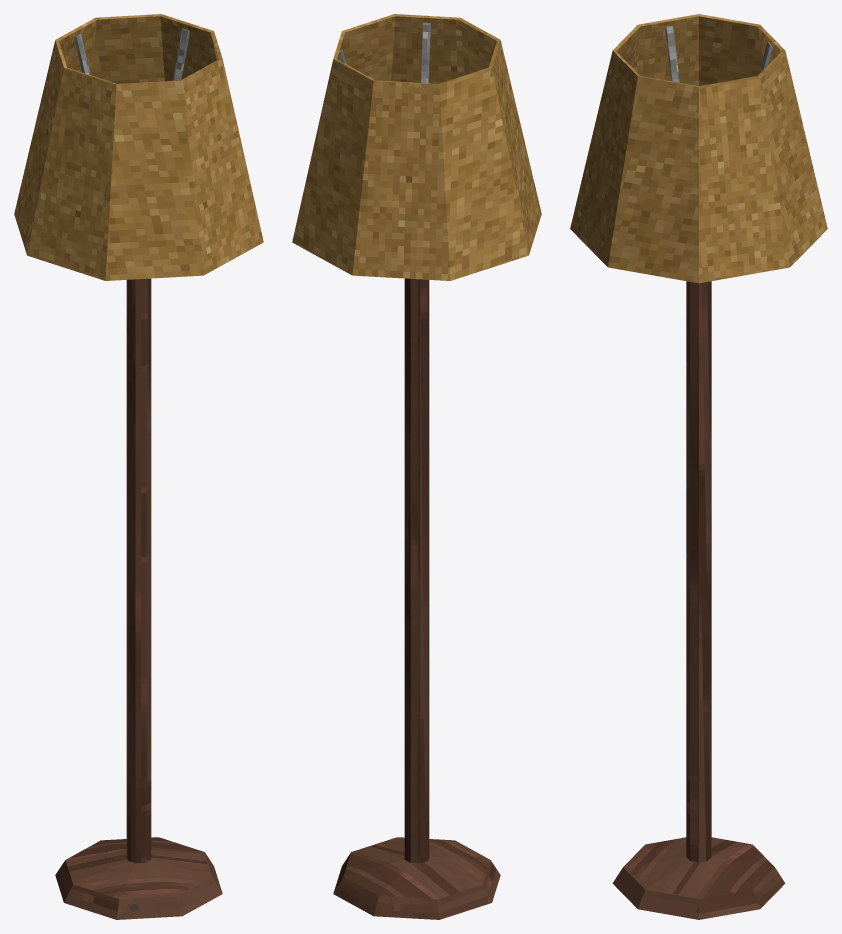
Rendered from lamp_final.fbx.
The picture shows the model from 3 angles, left to right: view 1: azimuth 30°, elevation 25°; view 2: azimuth 150°, elevation 25°; view 3: azimuth 270°, elevation 25°; orthographic projection.
Visible parts, largest first — view 1: Standing_lamp_01_Circle.003; view 2: Standing_lamp_01_Circle.003; view 3: Standing_lamp_01_Circle.003.
Boxes of the visible parts, x1,y1,x2,y2 form: Standing_lamp_01_Circle.003: (14,14,263,919); Standing_lamp_01_Circle.003: (292,14,541,919); Standing_lamp_01_Circle.003: (570,14,827,919).
Bounding box in the file's own units: 66.24 × 237 × 66.24.
